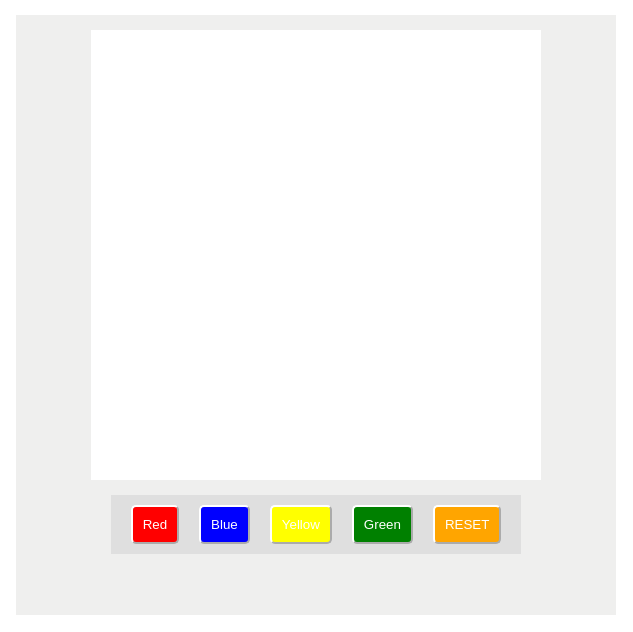
it: Testing buttons › test red btn
Click the button with test id "red".
click(155, 524)  # box left=131, top=505, right=179, bottom=544
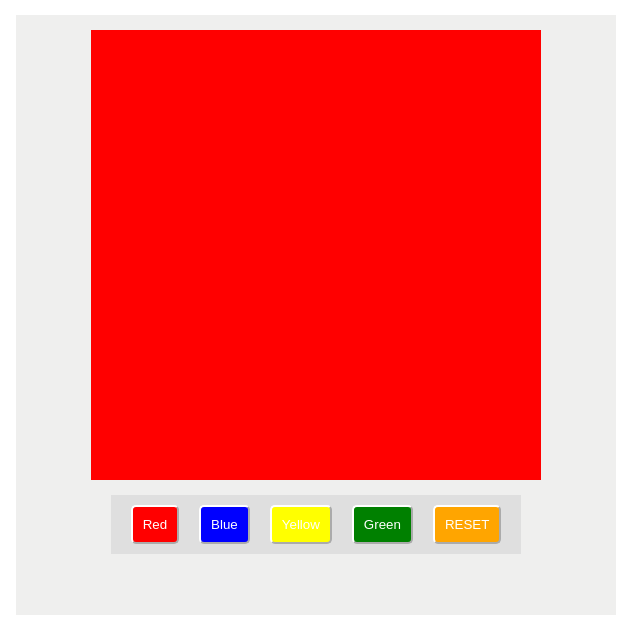
Result: the element with test id "red-card" is shown at left=91, top=30, right=541, bottom=480
